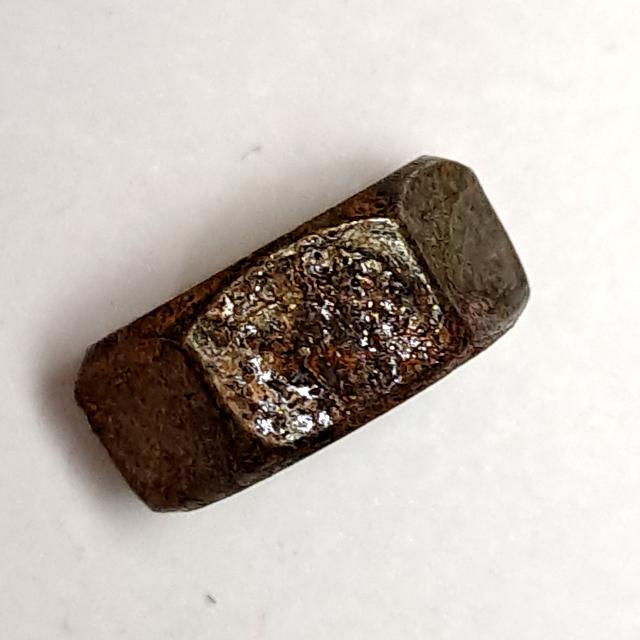Side_Rust: (64, 145, 542, 536)
